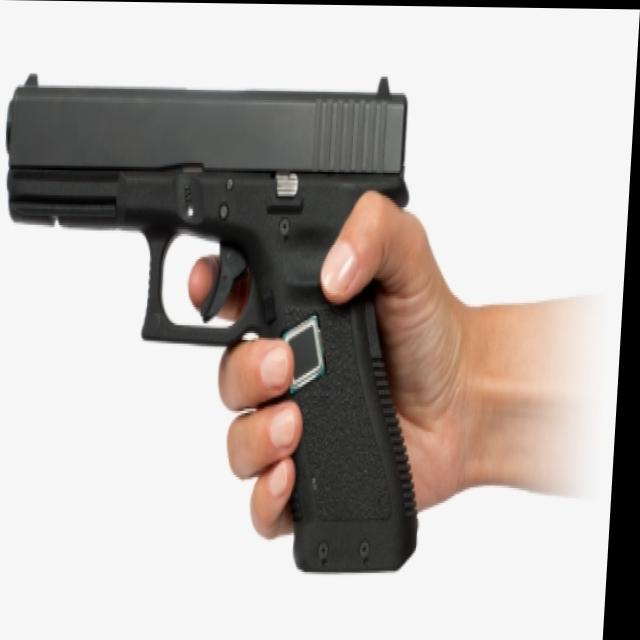handgun: (0, 71, 447, 574)
